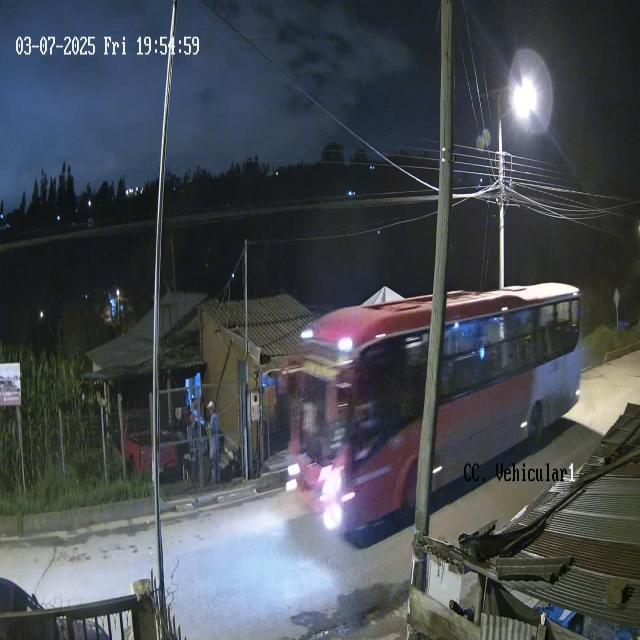BUS: (286, 280, 582, 538)
